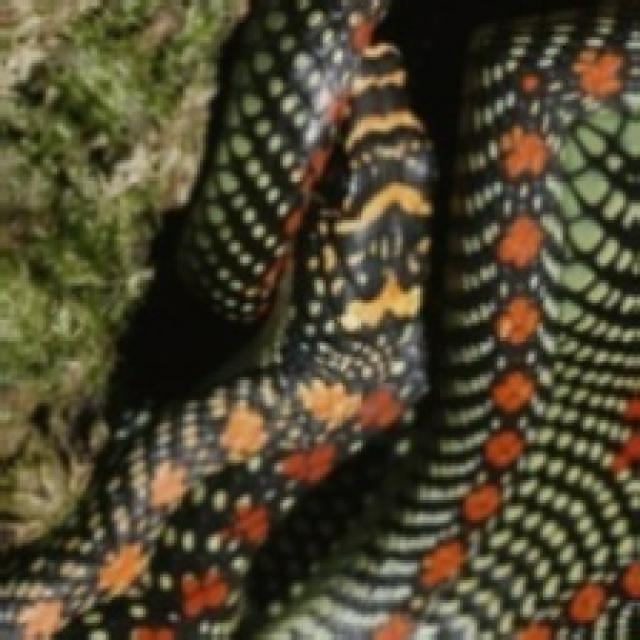paradise tree snake: (0, 0, 429, 637), (254, 9, 637, 637)
